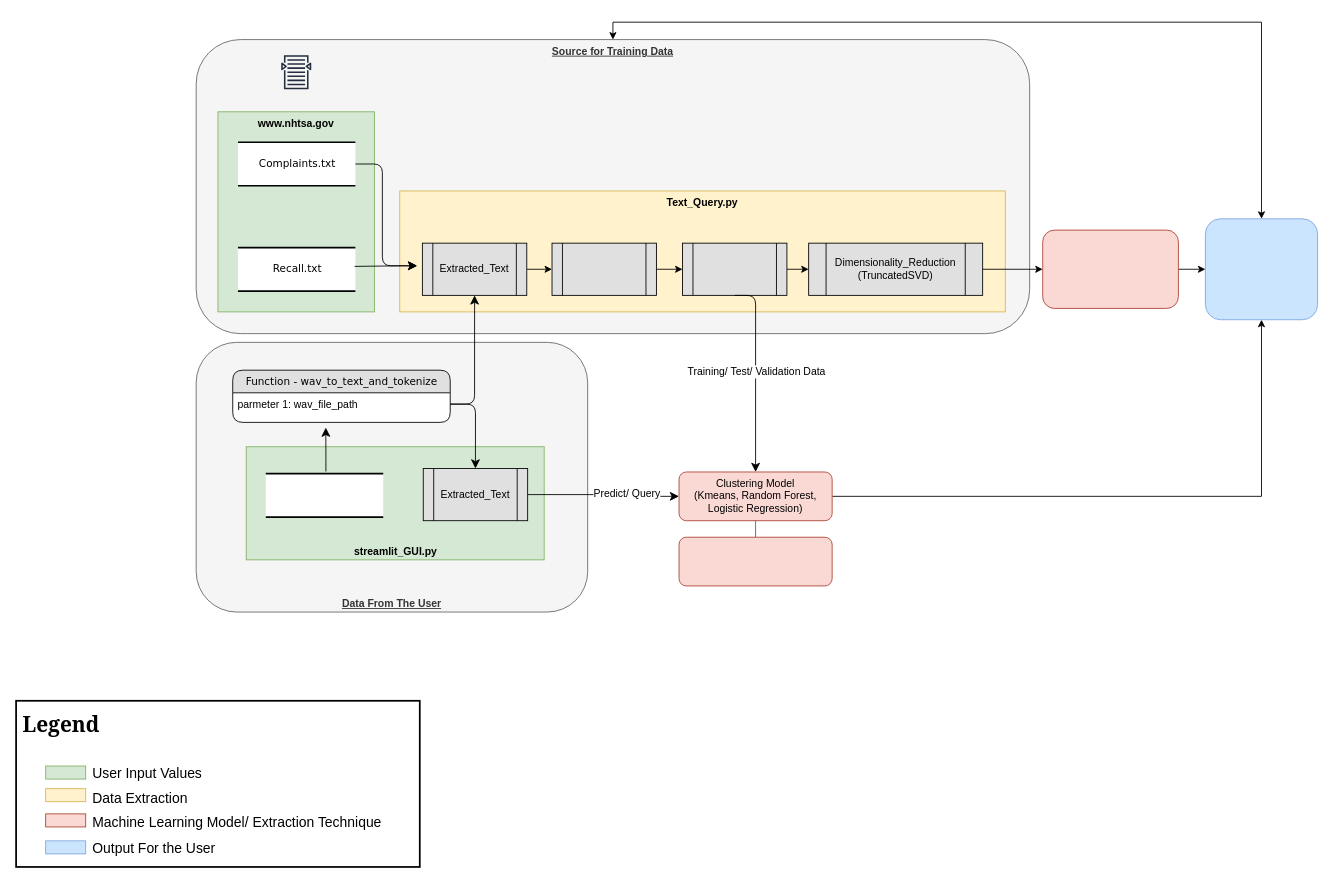
The diagram is 1333 pixels wide and 884 high, and some of its shapes have lost their labels. Here are the shapes that lost their labels. From the top down, the centre of each, then its label:
At point (296, 72): "Vehicle Documents".
At point (603, 268): "Tokenize_Text (NLTK)".
At point (734, 268): "Vectorize_Text (TfidfVectorizer)".
At point (1110, 268): "Cosine Similarity (find_similar_complaint )".
At point (1261, 269): "Data Presentation Scoring Stats Visualization".
At point (324, 495): "Recorded_Audio.wav".
At point (755, 561): "Regression (SVD/ Logistic Regression )".
